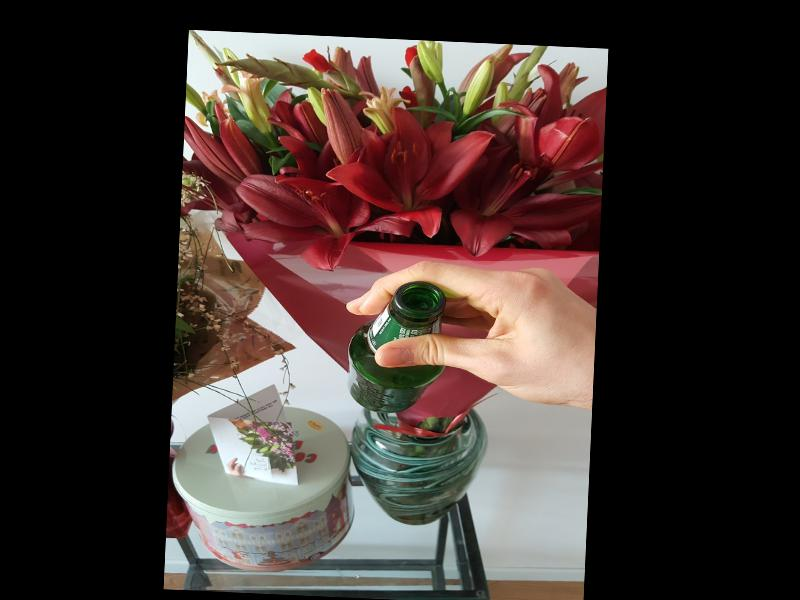Beer: (346, 278, 449, 415)
